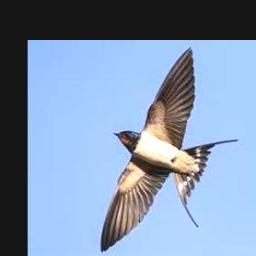Swallow: (100, 47, 239, 253)
